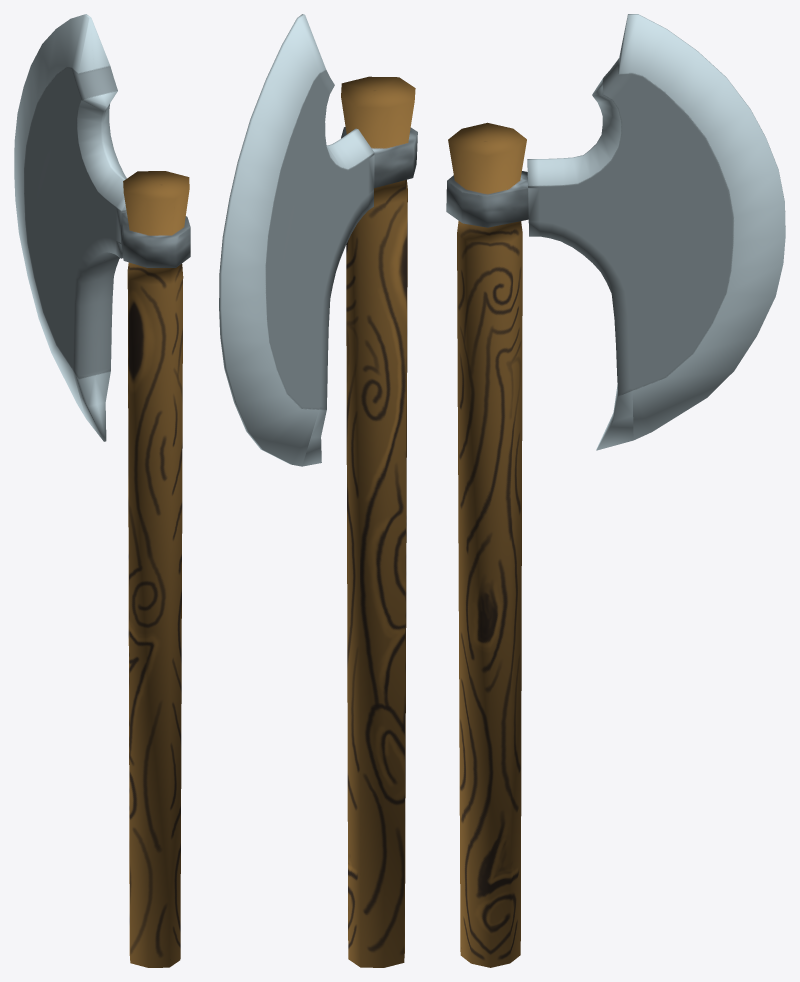
Rendered from axeV2.fbx.
The picture shows the model from 3 angles, left to right: view 1: azimuth 30°, elevation 25°; view 2: azimuth 150°, elevation 25°; view 3: azimuth 270°, elevation 25°; orthographic projection. The views are drawn at different scales.
Visible parts, largest first — view 1: axeV2; view 2: axeV2; view 3: axeV2.
Part boxes in pixels (x1,y1,x2,y2): axeV2: (14,14,190,967); axeV2: (219,14,417,967); axeV2: (446,14,785,967).
Bounding box in the file's own units: 4.61 × 59.94 × 19.6.
